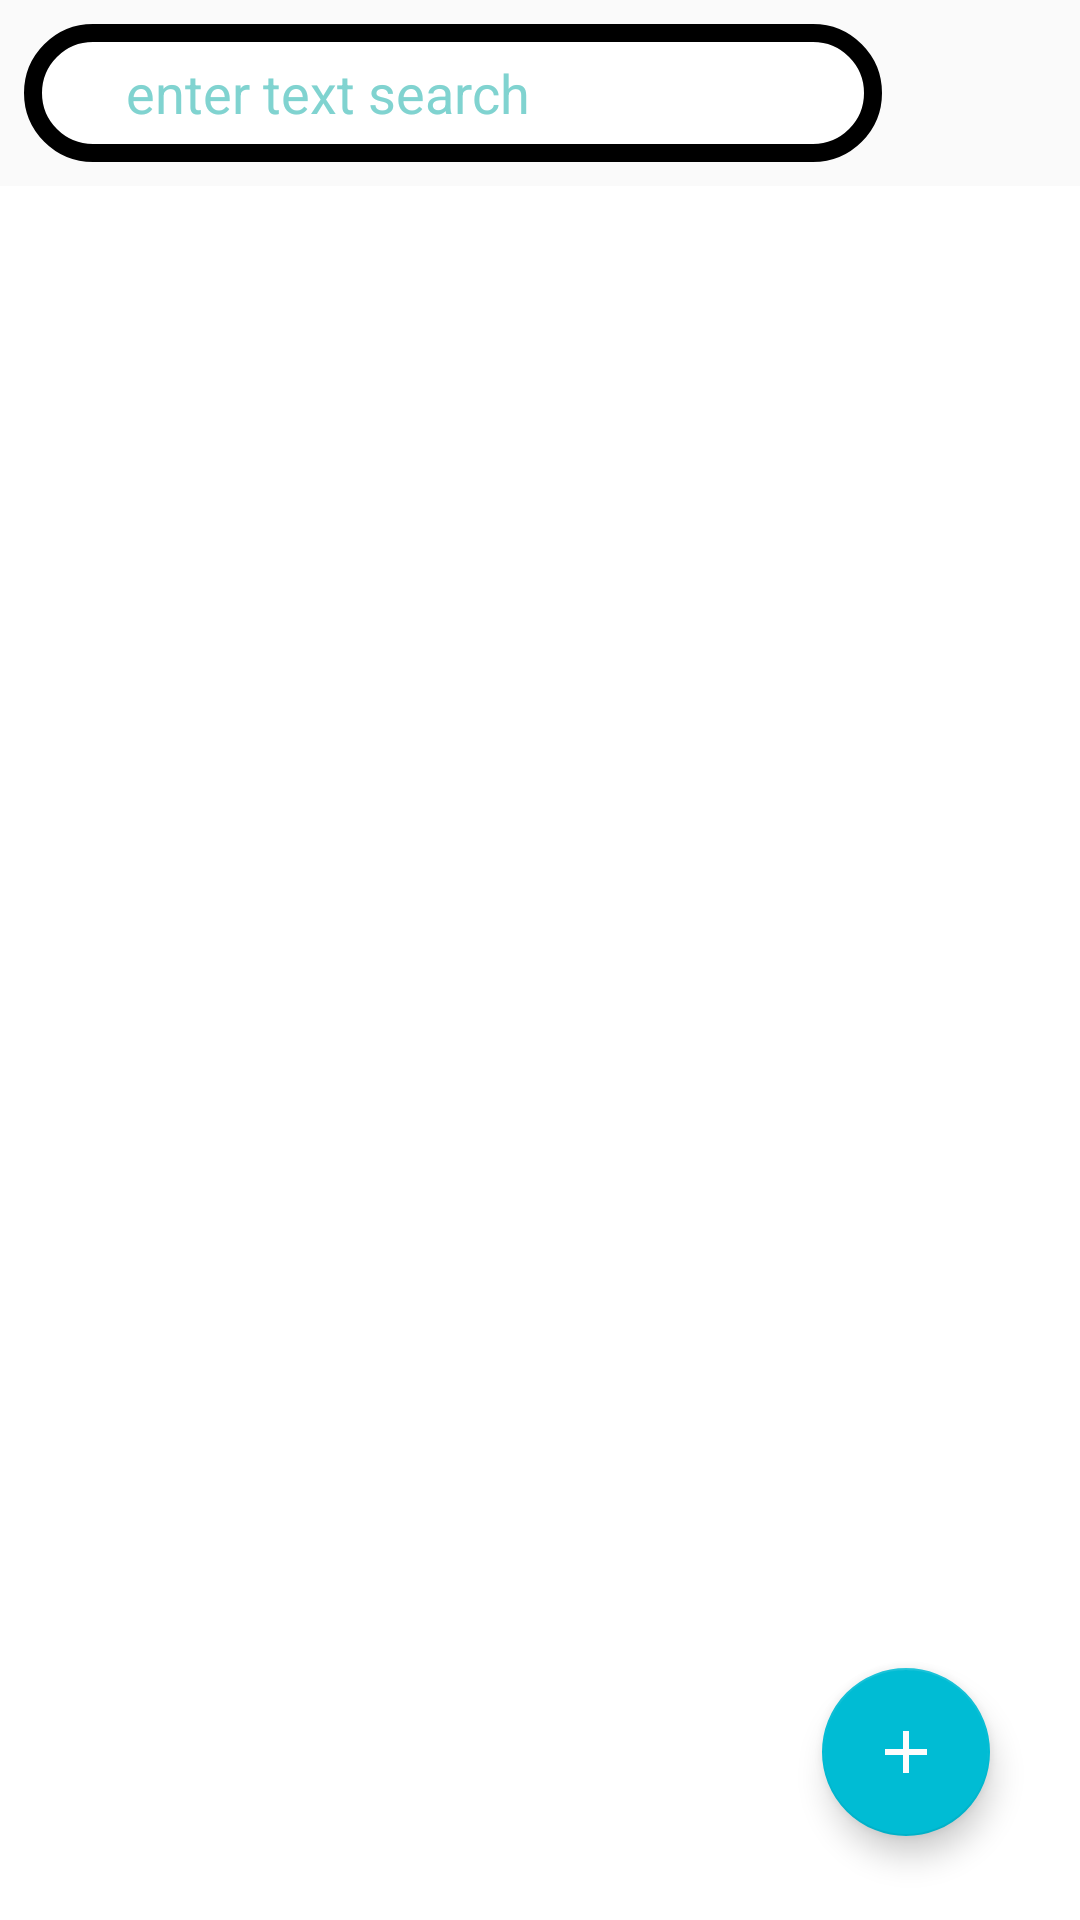

Point at icon controls on the screen. Image size 1080 x 1920, points as [x,y].
add: [906,1752]
